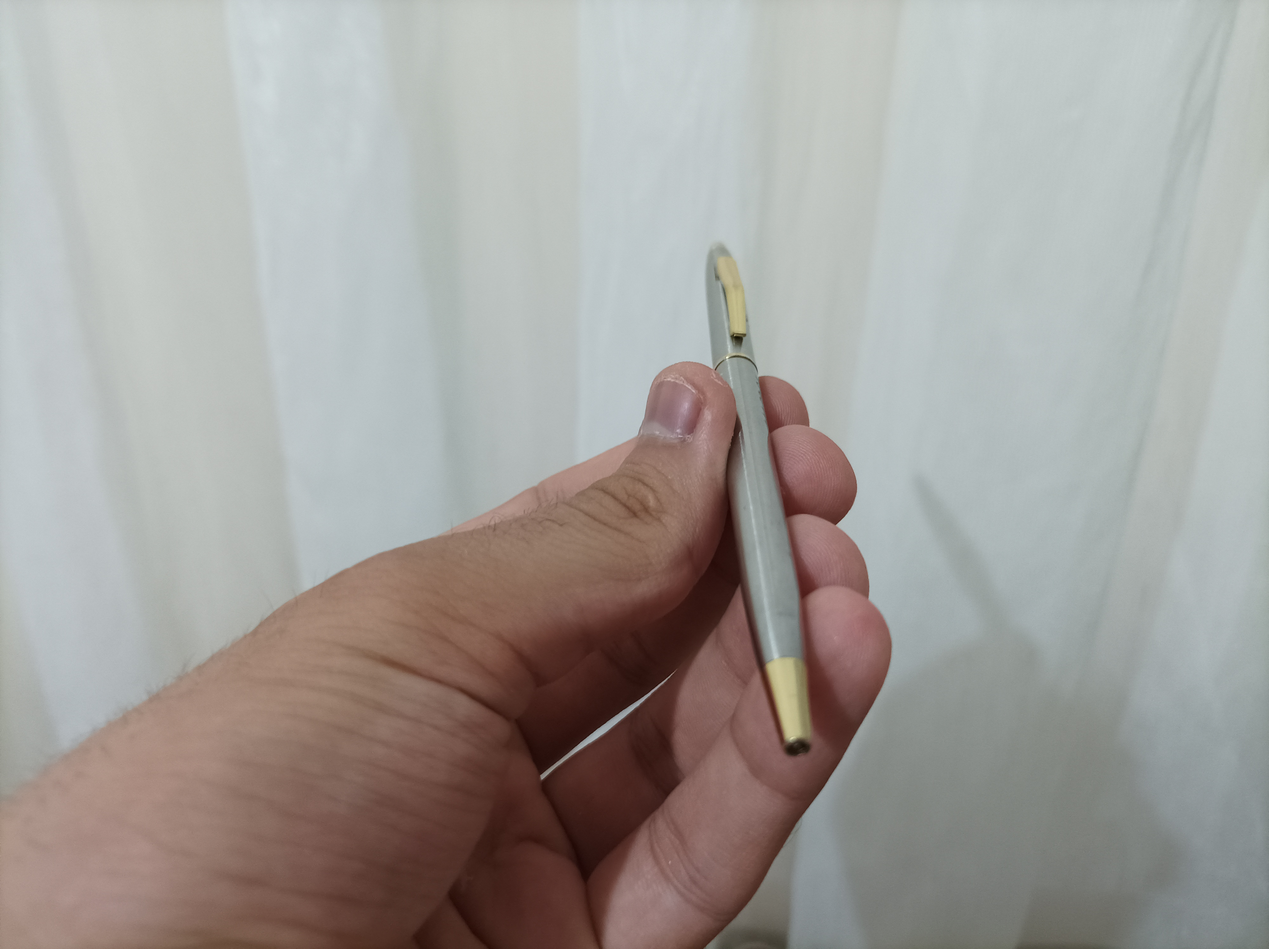plastic: (705, 238, 825, 777)
